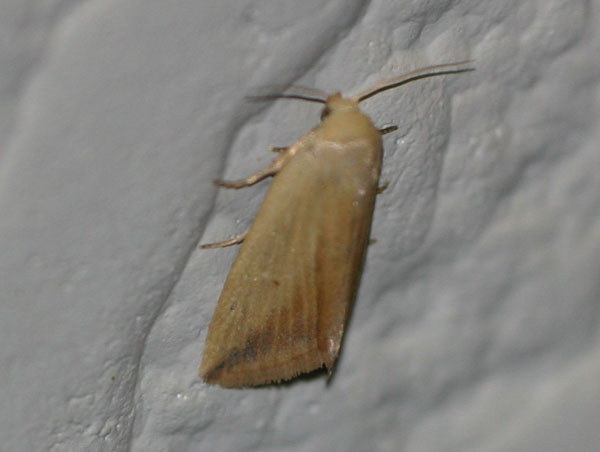Noctuidae: (191, 56, 475, 392)
